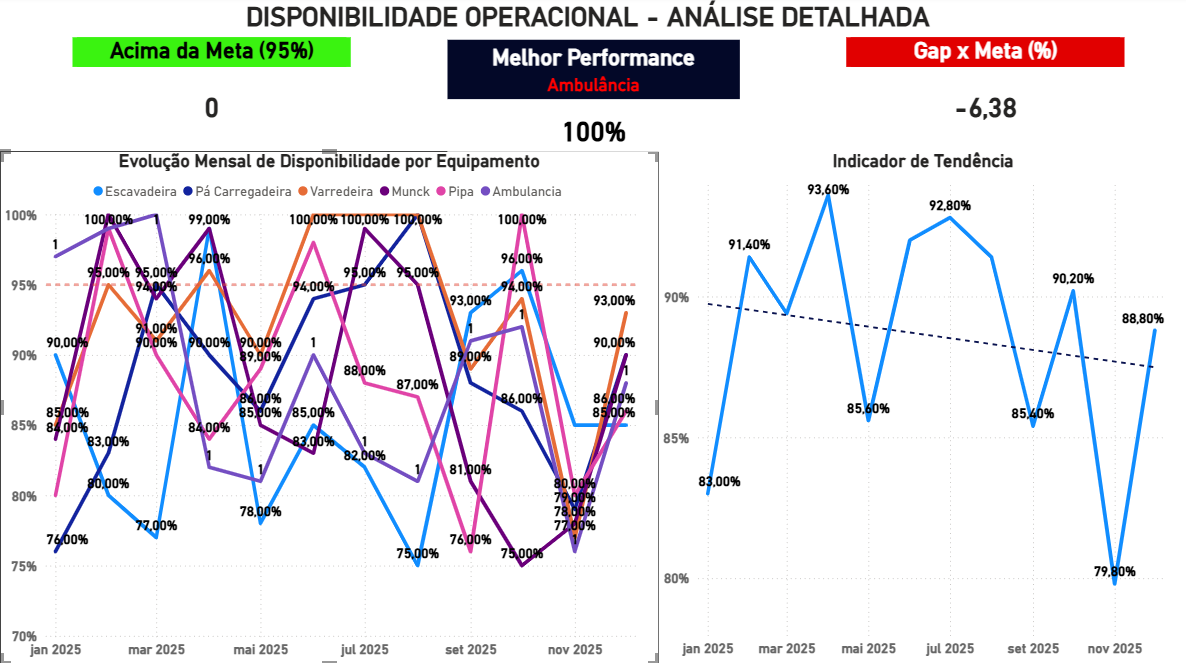

The page's visual inventory and layout, read from the dashboard file:
{"tool":"powerbi","page":{"name":"Disponibilidade Operacional","canvas":[1280,720],"ordinal":2},"visuals":[{"type":"textbox","box":[10,0,280,280],"z":0},{"type":"textbox","box":[260.2,0,758.4,44.4],"z":1000},{"type":"cardVisual","title":"Acima da Meta (95%)","fields":{"Data":["_Medidas.Qtd_Acima_Meta"]},"box":[78,44.1,300.2,120.7],"z":2000},{"type":"areaChart","title":"Evolução Mensal de Disponibilidade por Equipamento","fields":{"Y":["Sum(Disponibilidade.Escavadeira)","Sum(Disponibilidade.Pá Carregadeira)","Sum(Disponibilidade.Varredeira)","Sum(Disponibilidade.Caminhão Munck)","Sum(Disponibilidade.Caminhão Pipa 1/2)","Sum(Disponibilidade.Ambulancia)"],"Category":["Calendario.Data"]},"box":[0,167.1,710.2,553.9],"z":3000},{"type":"textbox","title":"Melhor Performance","box":[482.7,47.1,314.9,120.7],"z":4000},{"type":"cardVisual","title":"Gap x Meta (%)","fields":{"Data":["_Medidas.Gap_Meta"]},"box":[912.4,44.1,300.2,120.7],"z":5000},{"type":"areaChart","title":"Indicador de Tendência","fields":{"Category":["Disponibilidade.Data"],"Y":["_Medidas.Disponibilidade_Geral"]},"box":[710.2,167.1,570.1,552.5],"z":6000}]}

Visuals, with their boxes in screenshot pixels (x1, y1, x2, y2), scaled from the page's 1280x720 canvas onto the 1186x663 screenshot:
textbox: (9, 0, 269, 258)
textbox: (241, 0, 944, 41)
"Acima da Meta (95%)" cardVisual: (72, 41, 350, 152)
"Evolução Mensal de Disponibilidade por Equipamento" areaChart: (0, 154, 658, 662)
"Melhor Performance" textbox: (447, 43, 739, 155)
"Gap x Meta (%)" cardVisual: (845, 41, 1124, 152)
"Indicador de Tendência" areaChart: (658, 154, 1185, 662)
